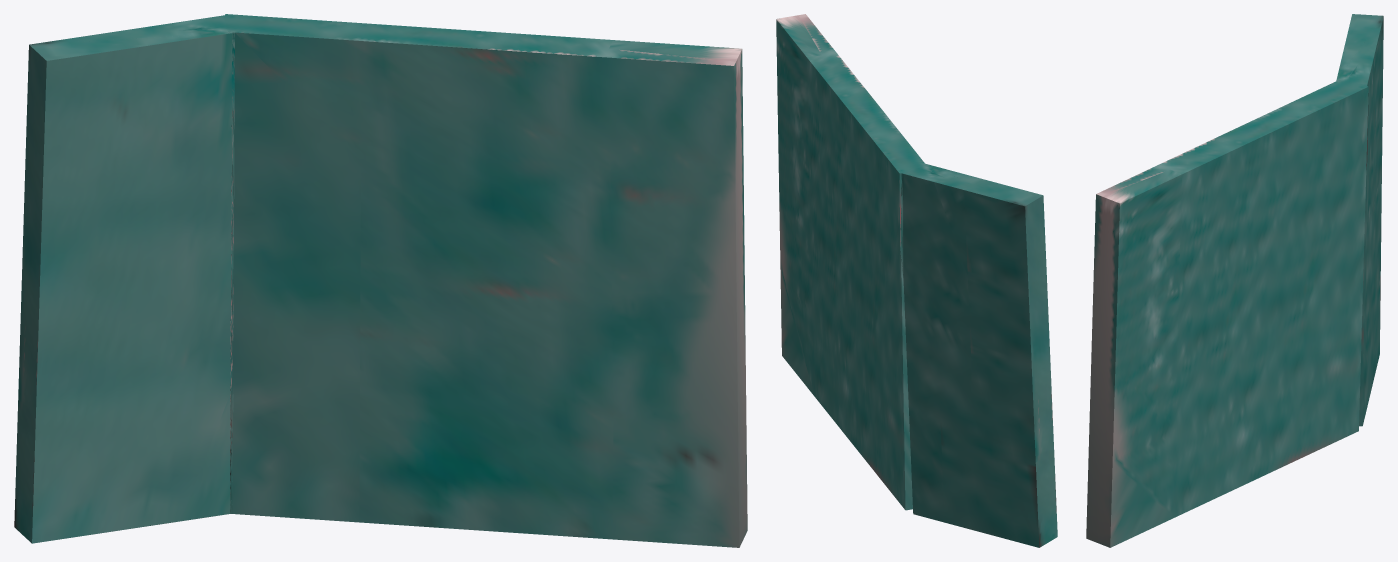
The model's file is blade.glb.
3 views of the same model, side by side, from view 1: azimuth 30°, elevation 25°; view 2: azimuth 150°, elevation 25°; view 3: azimuth 270°, elevation 25° (orthographic). The views are drawn at different scales.
Parts seen in each view (by area): view 1: blade; view 2: blade; view 3: blade.
Boxes of the visible parts, <box> form: blade: <box>14,14,747,547</box>; blade: <box>776,14,1057,547</box>; blade: <box>1086,14,1383,547</box>.
Size of the model in its own units: 0.0286 by 0.0239 by 0.0184.
21 materials, 21 textured.
